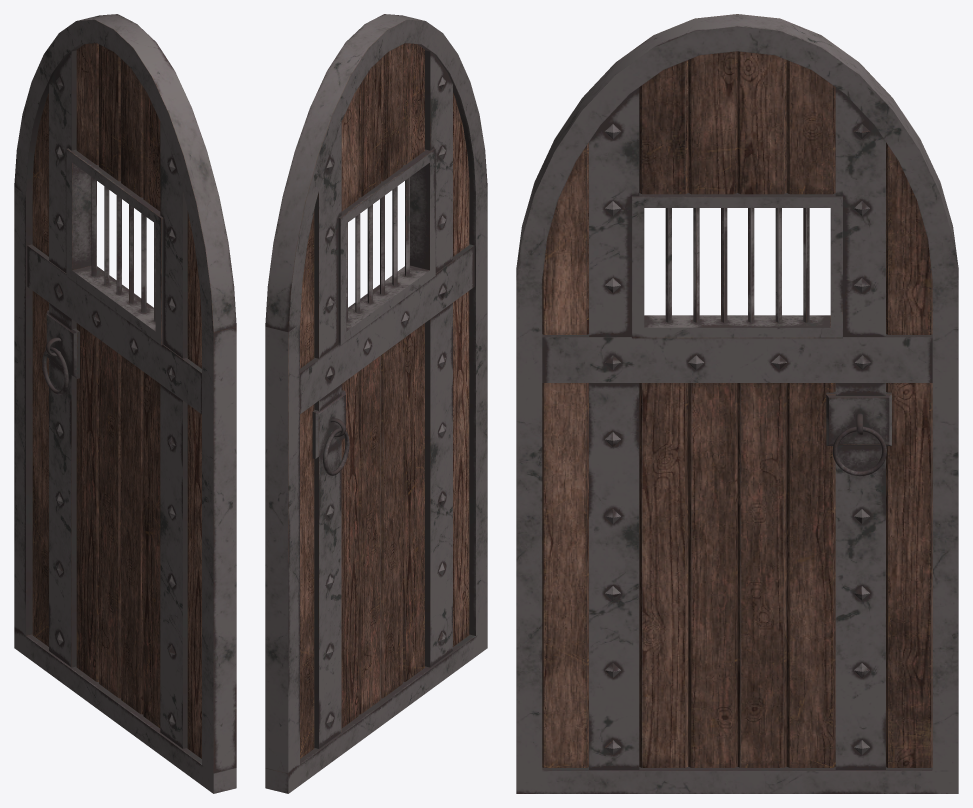
The model's file is SmallDoor.gltf.
3 views of the same model, side by side, from view 1: azimuth 30°, elevation 25°; view 2: azimuth 150°, elevation 25°; view 3: azimuth 270°, elevation 25° (orthographic). The views are drawn at different scales.
Visible parts, largest first — view 1: SM_Door_03; view 2: SM_Door_03; view 3: SM_Door_03.
Boxes of the visible parts, <box> form: SM_Door_03: <box>14,14,236,793</box>; SM_Door_03: <box>265,14,487,793</box>; SM_Door_03: <box>516,14,958,793</box>.
Bounding box in the file's own units: 0.212 × 2.89 × 1.51.
Materials: 1 (1 with a texture image).
